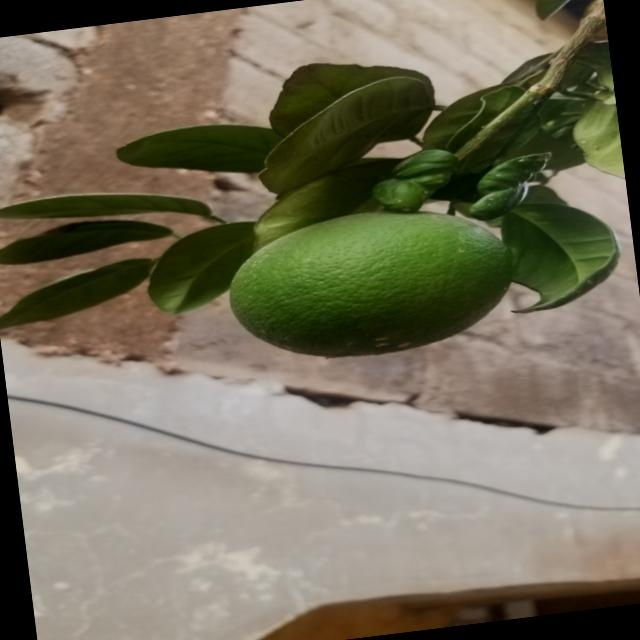agrume: (223, 190, 529, 374)
